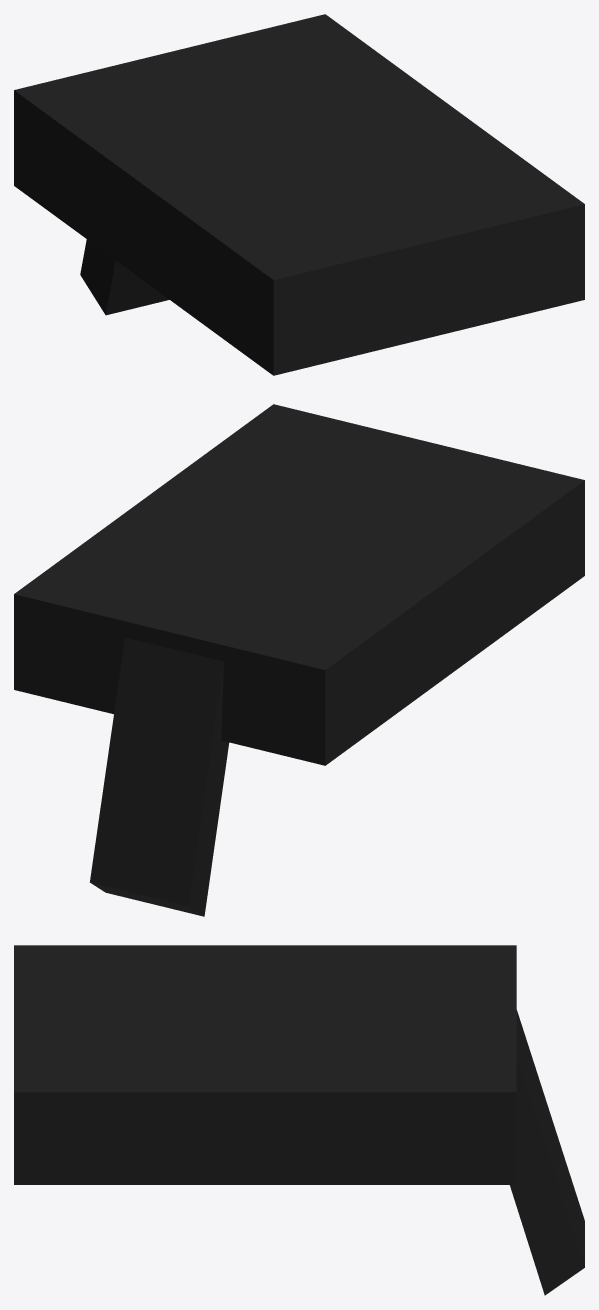
The model's file is black_headband.glb.
The picture shows the model from 3 angles, top to bottom: view 1: azimuth 30°, elevation 25°; view 2: azimuth 150°, elevation 25°; view 3: azimuth 270°, elevation 25°; orthographic projection. The views are drawn at different scales.
Visible parts, largest first — view 1: mesh; view 2: mesh; view 3: mesh.
Part boxes in pixels (x1,y1,x2,y2): mesh: (14,14,584,375); mesh: (14,404,584,916); mesh: (14,945,584,1295).
Bounding box in the file's own units: 0.7133 × 0.5734 × 1.17.
Materials: 1 (1 with a texture image).
